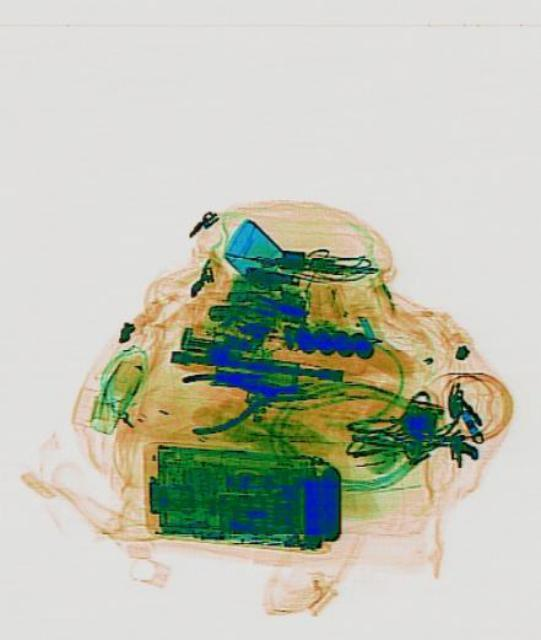Pliers: (178, 358, 315, 434)
